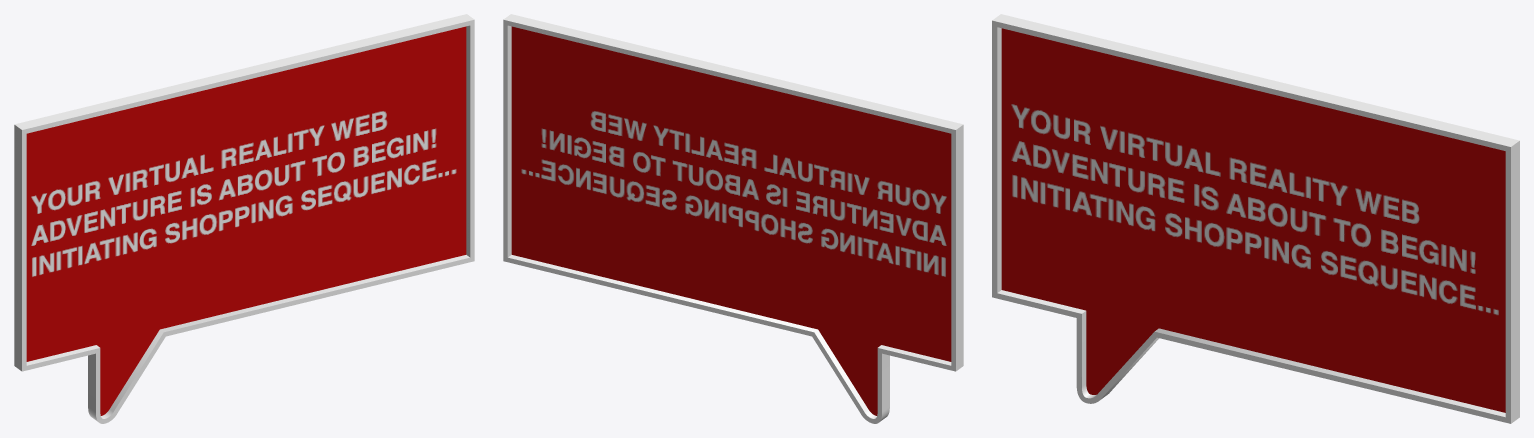
The model's file is dog_bubble2.dae.
3 renders of one model, left to right at view 1: azimuth 30°, elevation 25°; view 2: azimuth 150°, elevation 25°; view 3: azimuth 330°, elevation 25°, orthographic. The views are drawn at different scales.
Visible parts, largest first — view 1: Speech_Bubble_1.1; view 2: Speech_Bubble_1.1; view 3: Speech_Bubble_1.1.
Boxes of the visible parts, left/top/right/bottom form: Speech_Bubble_1.1: left=14, top=14, right=474, bottom=423; Speech_Bubble_1.1: left=503, top=14, right=963, bottom=423; Speech_Bubble_1.1: left=992, top=14, right=1519, bottom=423.
Bounding box in the file's own units: 202 × 134 × 6.
Materials: 1 (1 with a texture image).
